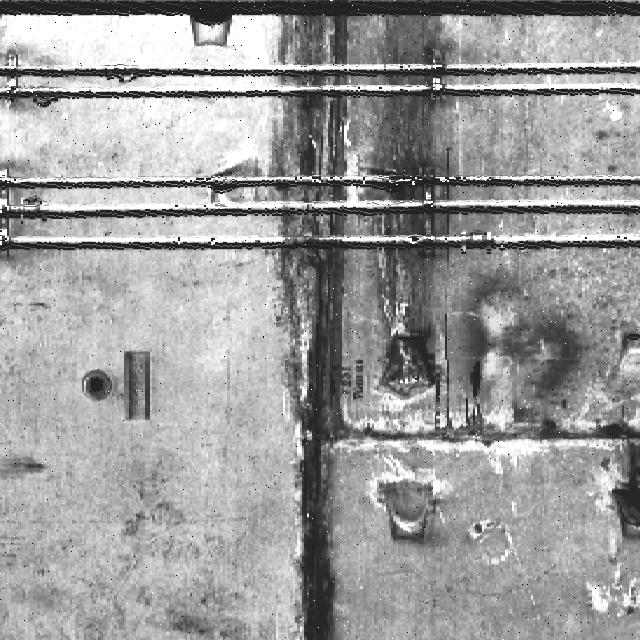leakage: (265, 10, 351, 640), (366, 11, 460, 382), (363, 406, 591, 459), (595, 431, 639, 562)
